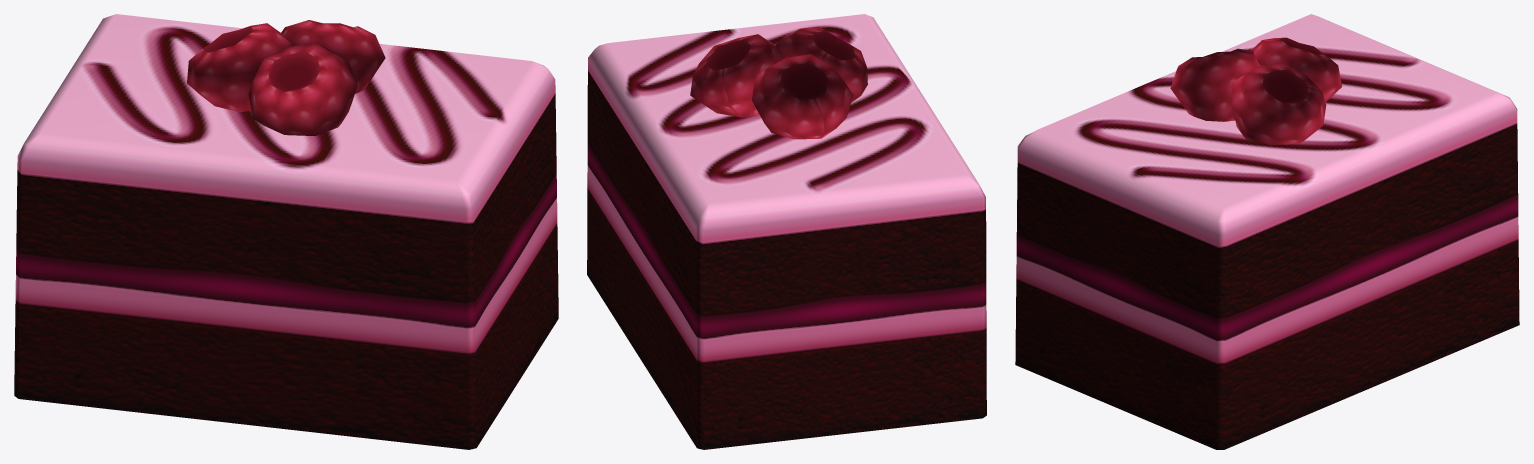
File: 009-Cakes03.FBX
3 views of the same model, side by side, from view 1: azimuth 30°, elevation 25°; view 2: azimuth 150°, elevation 25°; view 3: azimuth 270°, elevation 25° (orthographic). The views are drawn at different scales.
Parts seen in each view (by area): view 1: 009-Cakes03; view 2: 009-Cakes03; view 3: 009-Cakes03.
Part boxes in pixels (<box>): 009-Cakes03: <box>14,14,558,449</box>; 009-Cakes03: <box>587,14,986,449</box>; 009-Cakes03: <box>1015,14,1519,449</box>.
Size of the model in its own units: 14.85 by 9.48 by 14.85.
